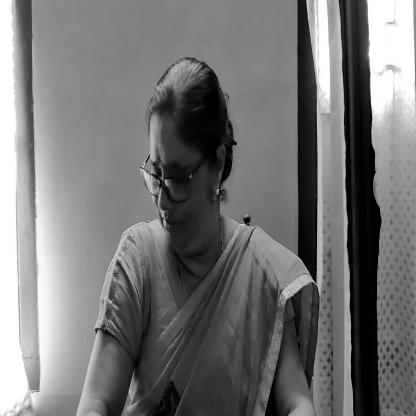Distracted: (145, 66, 240, 253)
